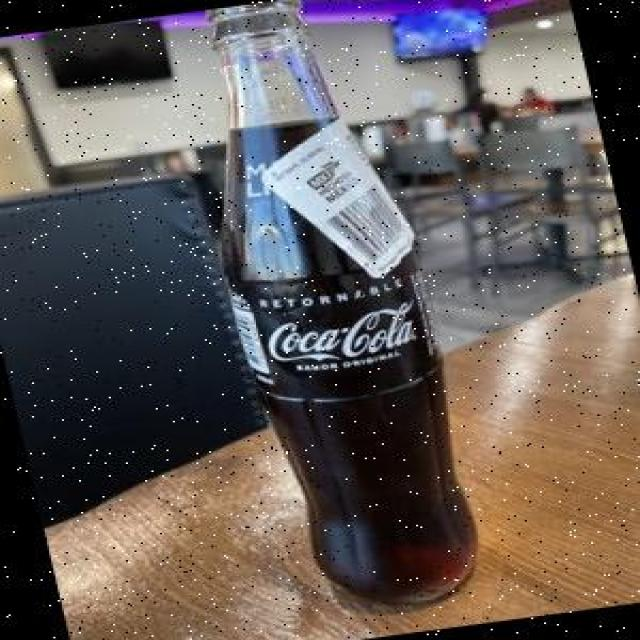coca-cola: (160, 0, 505, 622)
